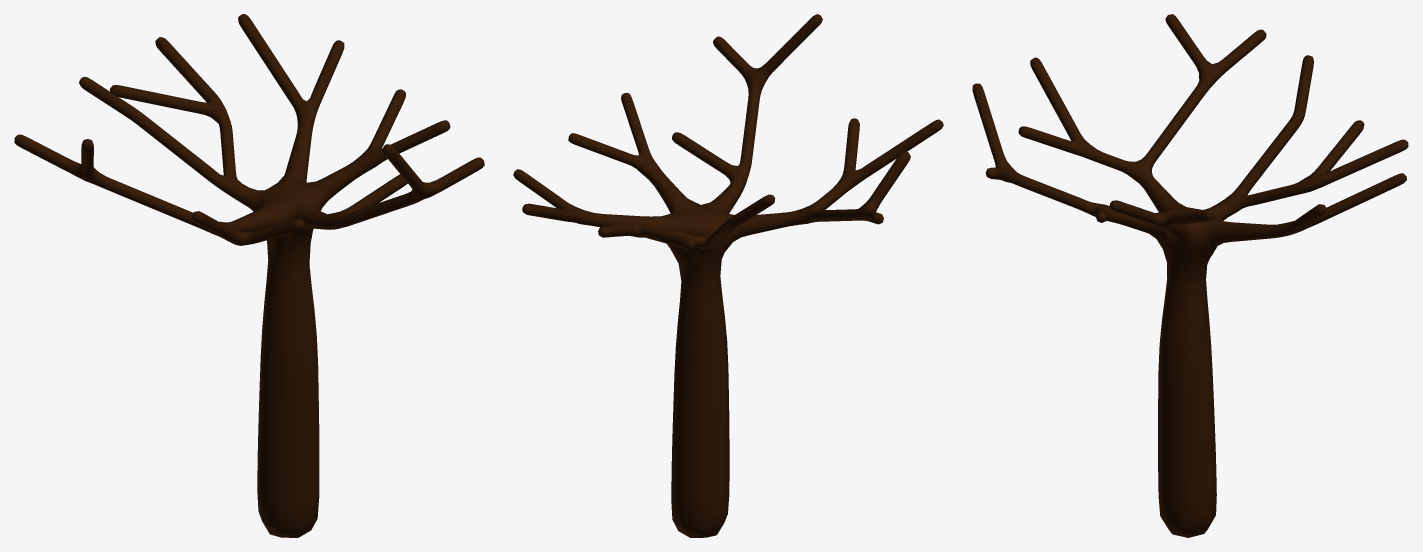
Rendered from tronco_1.fbx.
3 renders of one model, left to right at view 1: azimuth 30°, elevation 25°; view 2: azimuth 150°, elevation 25°; view 3: azimuth 270°, elevation 25°, orthographic. The views are drawn at different scales.
Parts seen in each view (by area): view 1: ipe.001; view 2: ipe.001; view 3: ipe.001.
Boxes of the visible parts, <box> form: ipe.001: <box>14,14,484,537</box>; ipe.001: <box>513,14,943,537</box>; ipe.001: <box>972,14,1408,537</box>.
Bounding box in the file's own units: 5.89 × 6.56 × 7.39.
